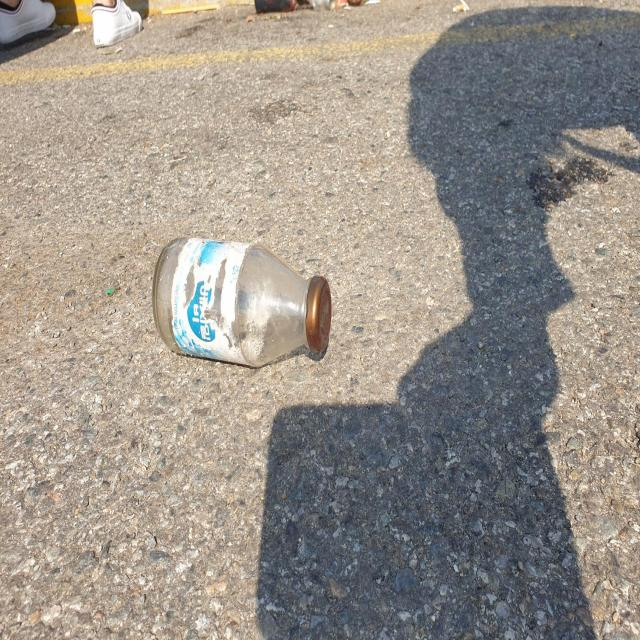glass: (153, 238, 331, 366)
